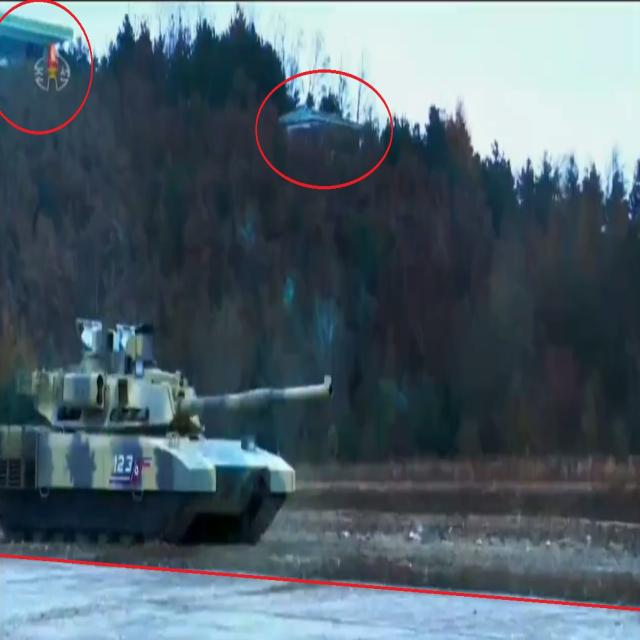north tank: (4, 280, 354, 568)
